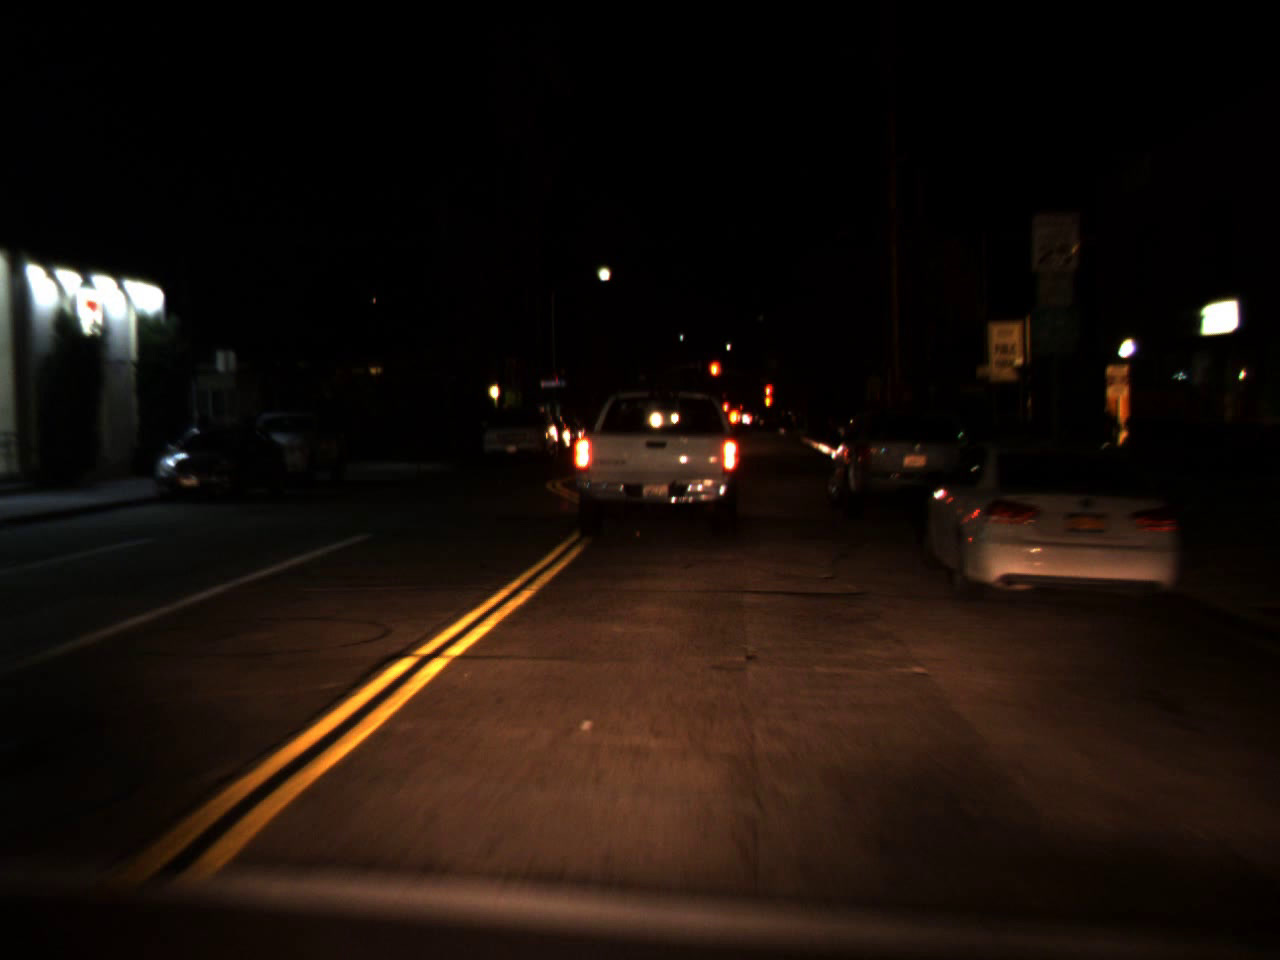stop: (708, 358, 721, 395), (762, 382, 774, 406)
